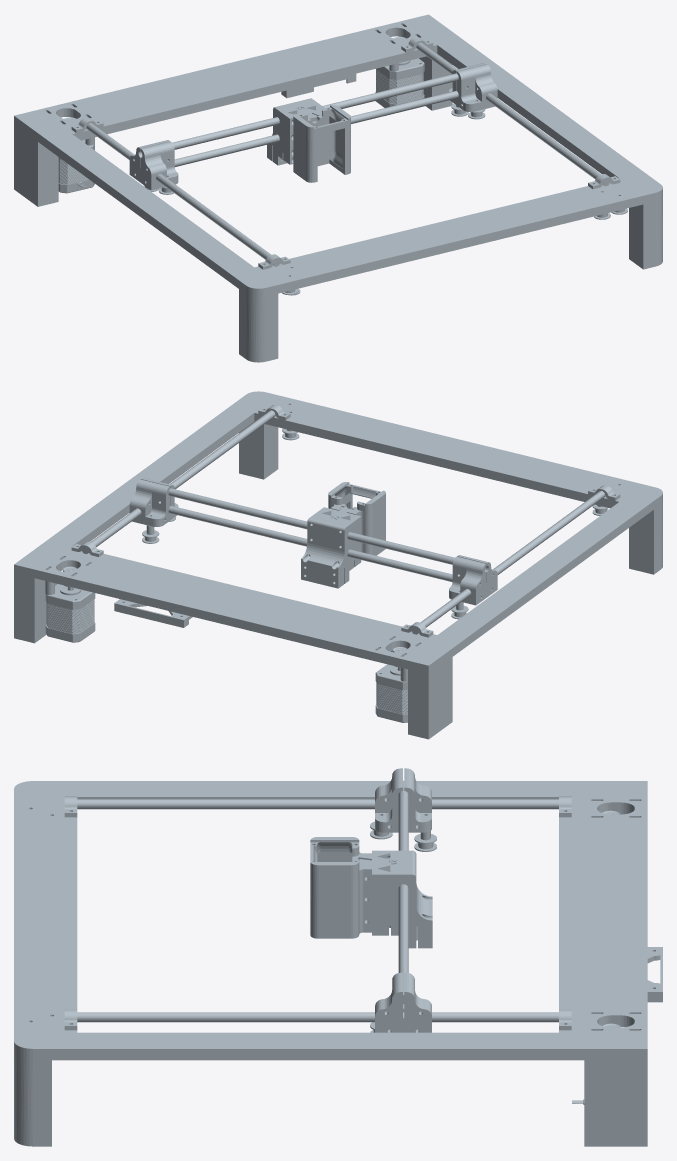
File: corexy.glb
3 renders of one model, top to bottom at view 1: azimuth 30°, elevation 25°; view 2: azimuth 150°, elevation 25°; view 3: azimuth 270°, elevation 25°, orthographic. The views are drawn at different scales.
Visible parts, largest first — view 1: CoreXY-col; view 2: CoreXY-col; view 3: CoreXY-col.
Boxes of the visible parts, box(x1,y1,x2,y2) form: CoreXY-col: box(14, 14, 662, 362); CoreXY-col: box(14, 391, 662, 739); CoreXY-col: box(14, 768, 662, 1146).
Bounding box in the file's own units: 9.77 × 2.55 × 10.
